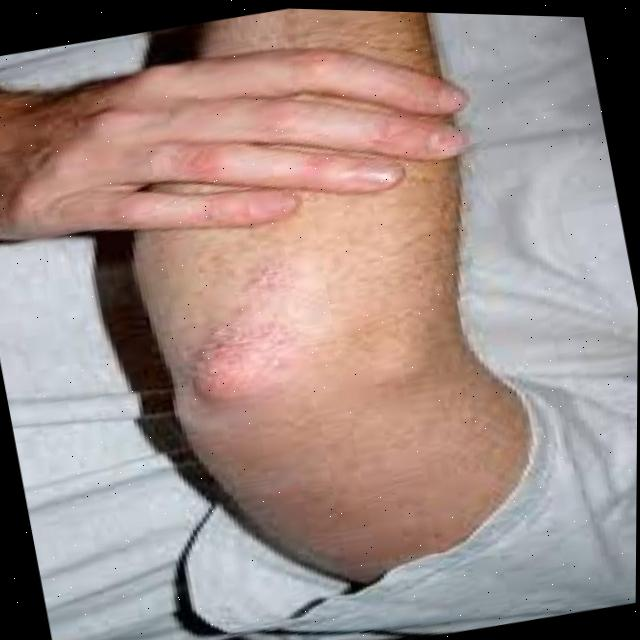Eczema: (172, 257, 316, 404)
